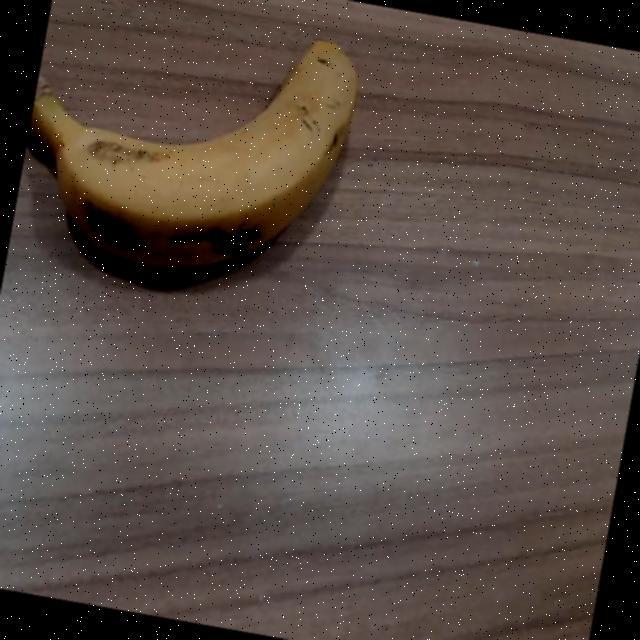Overripe: (2, 0, 389, 335)
